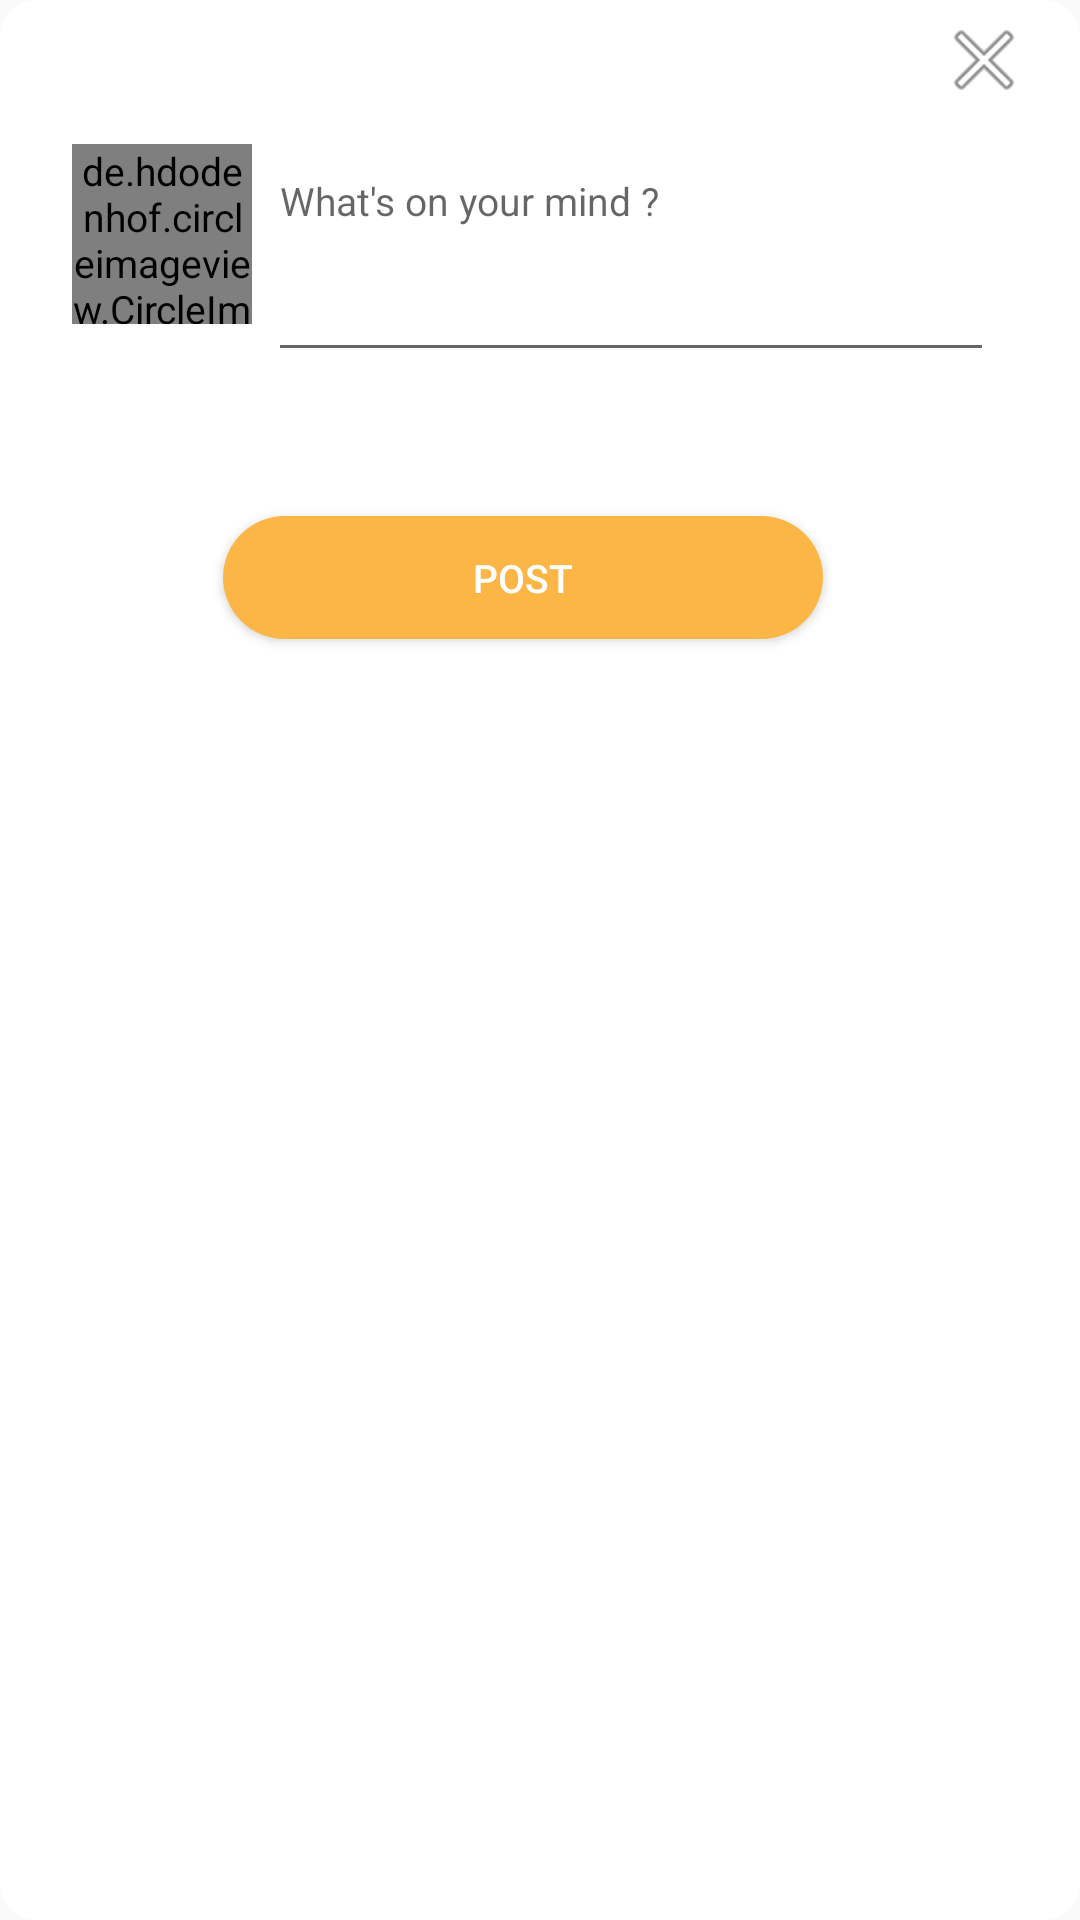

Icons on this 1080x1920 Android screen, each with its box as (x1, y1, x2, y2):
close clear cancel: (954, 30, 1014, 90)
